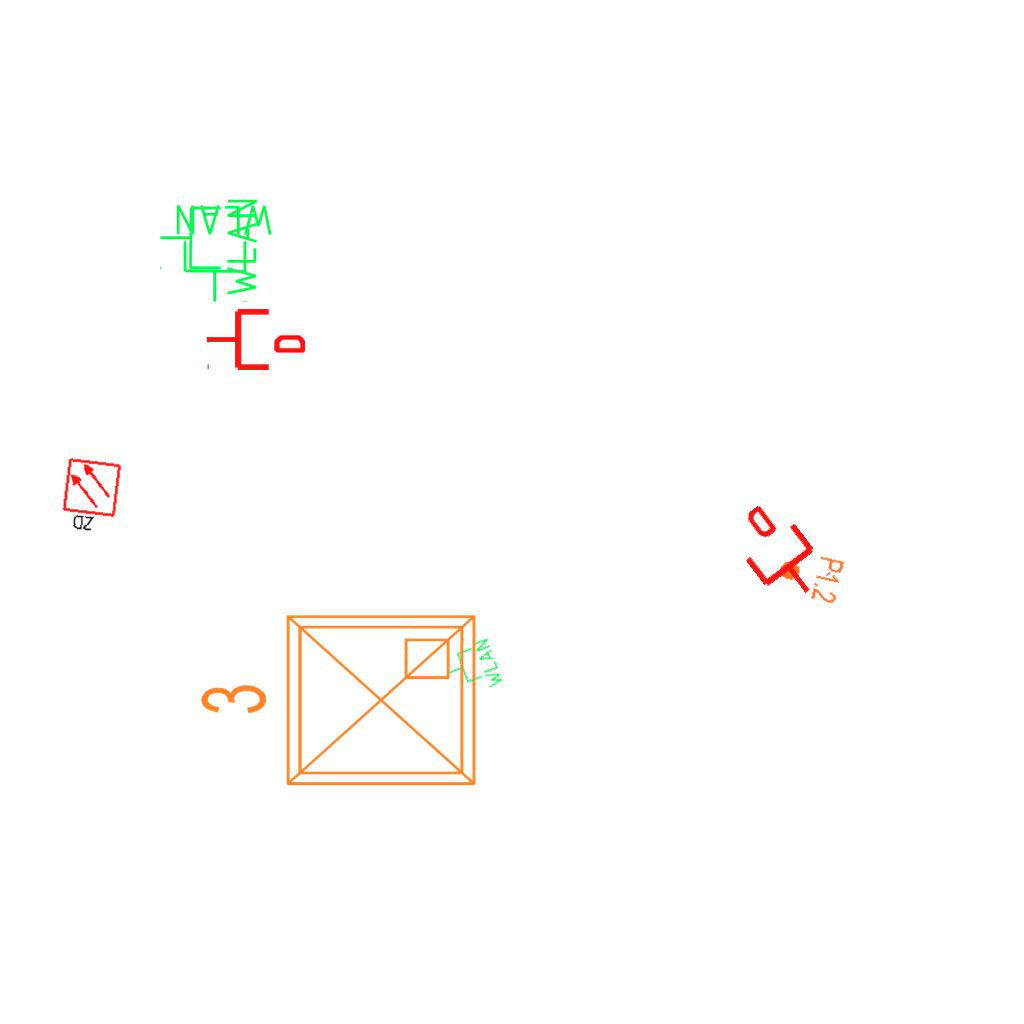Datenanschluss_einfach: (720, 492, 837, 614), (205, 305, 305, 374)
Downlight_LED_Einbauleuchten_Flur: (773, 546, 847, 606)
Einbaudownlights_LED_Konferenzraeume: (190, 600, 490, 808)
WLAN: (157, 195, 261, 300), (172, 201, 277, 305), (439, 635, 507, 703)
ZD_Melder_in_Zwischendecke_mit_Revisionsoeffnung_mind_40_x_40_cm: (58, 456, 125, 538)
